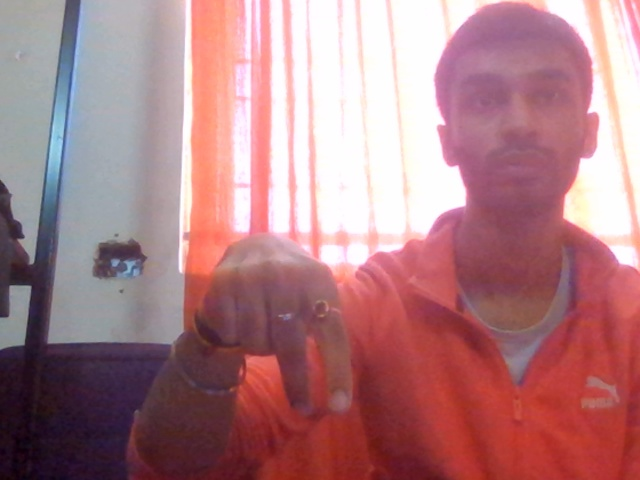P: (200, 205, 369, 456)
